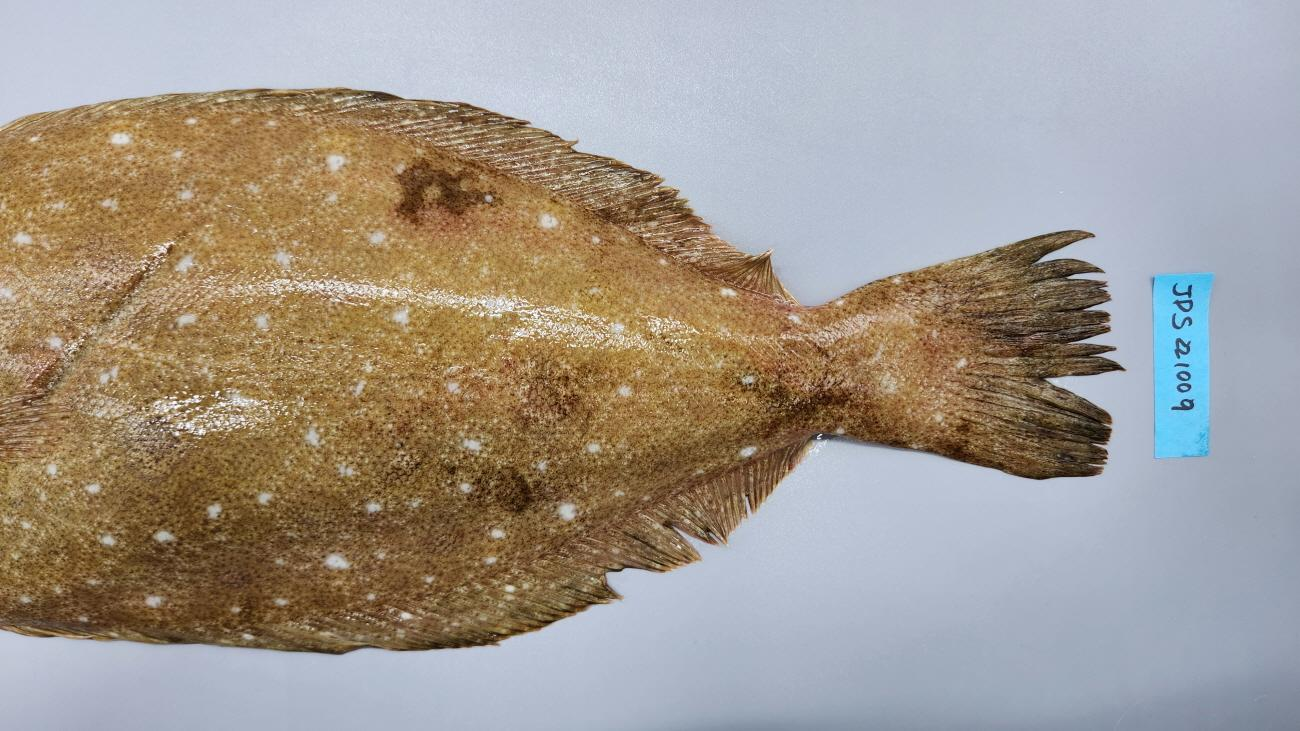POOUN: (0, 84, 1132, 656)
